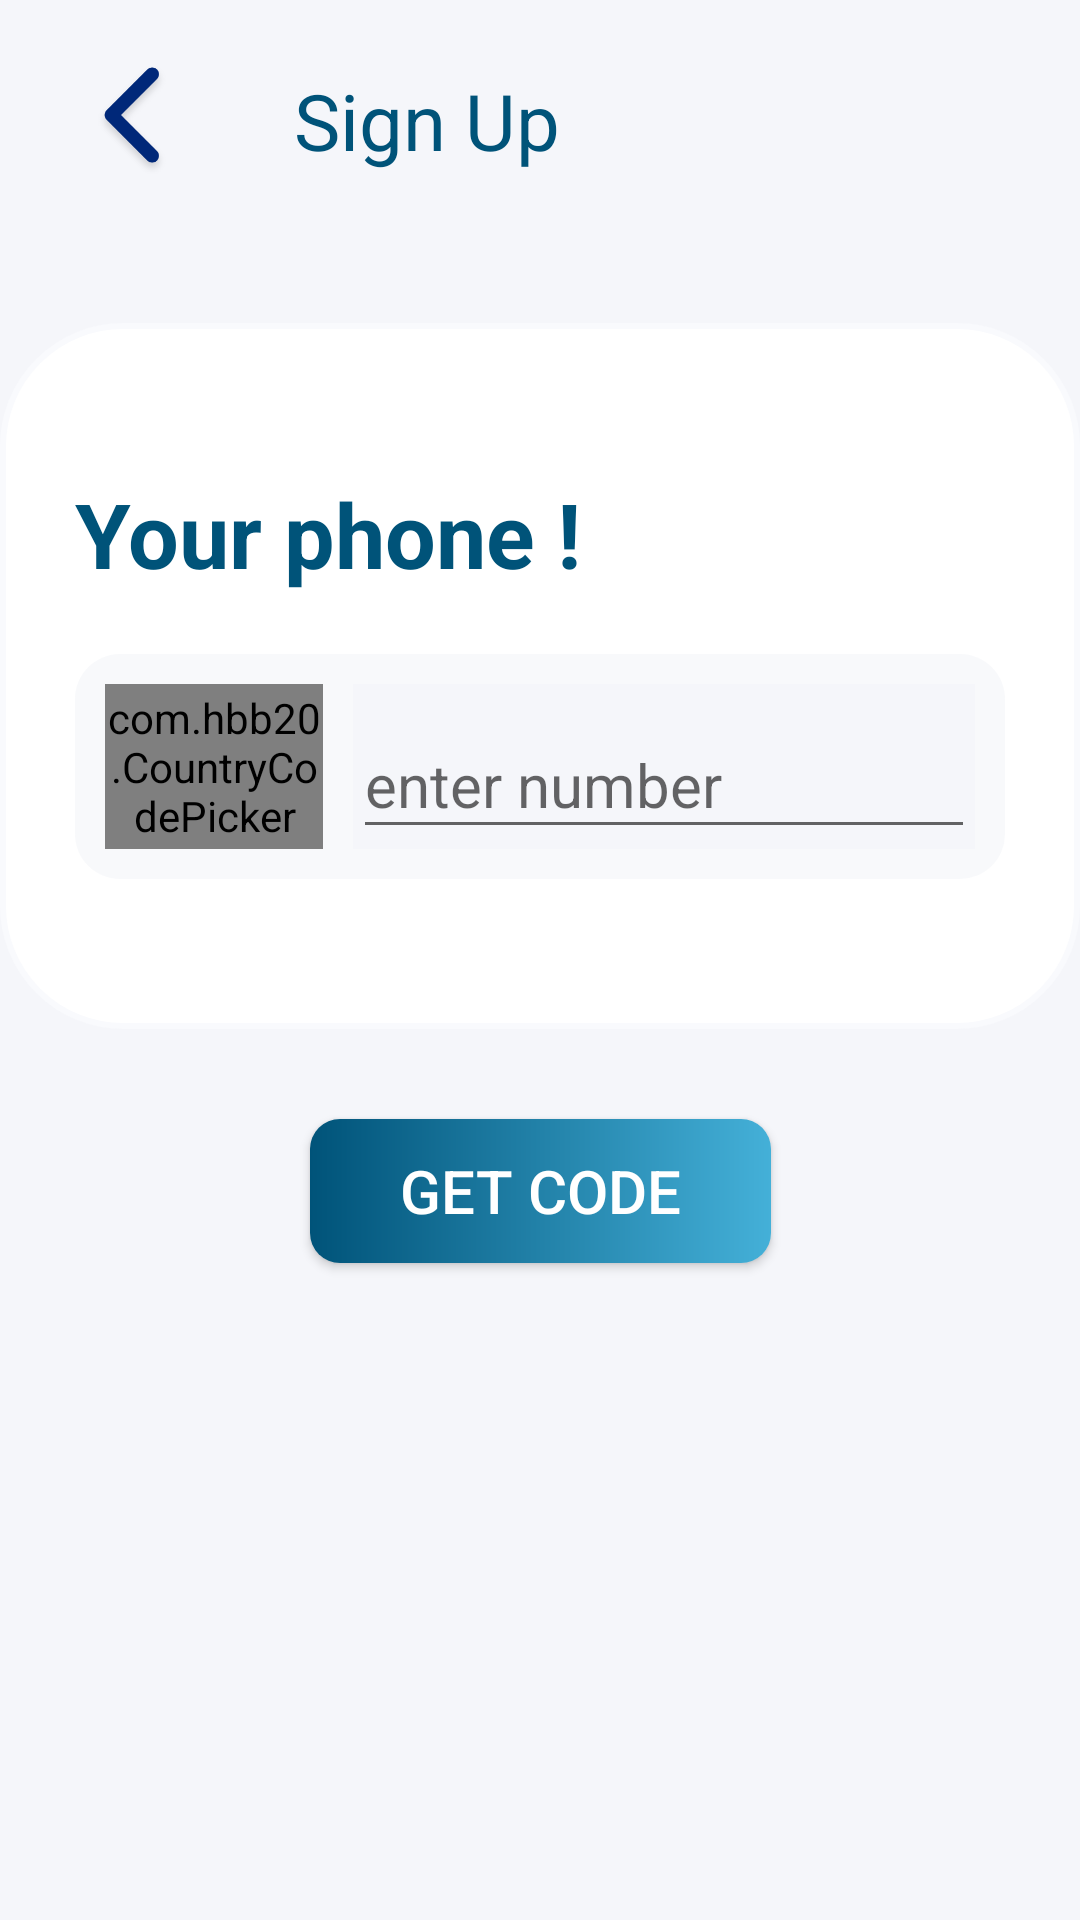

Named icons in this screenshot (1080px x 1920px) and their bounding boxes, bbox=[x1, y1, x2, y2]:
arrow back: bbox=[104, 67, 159, 165]
